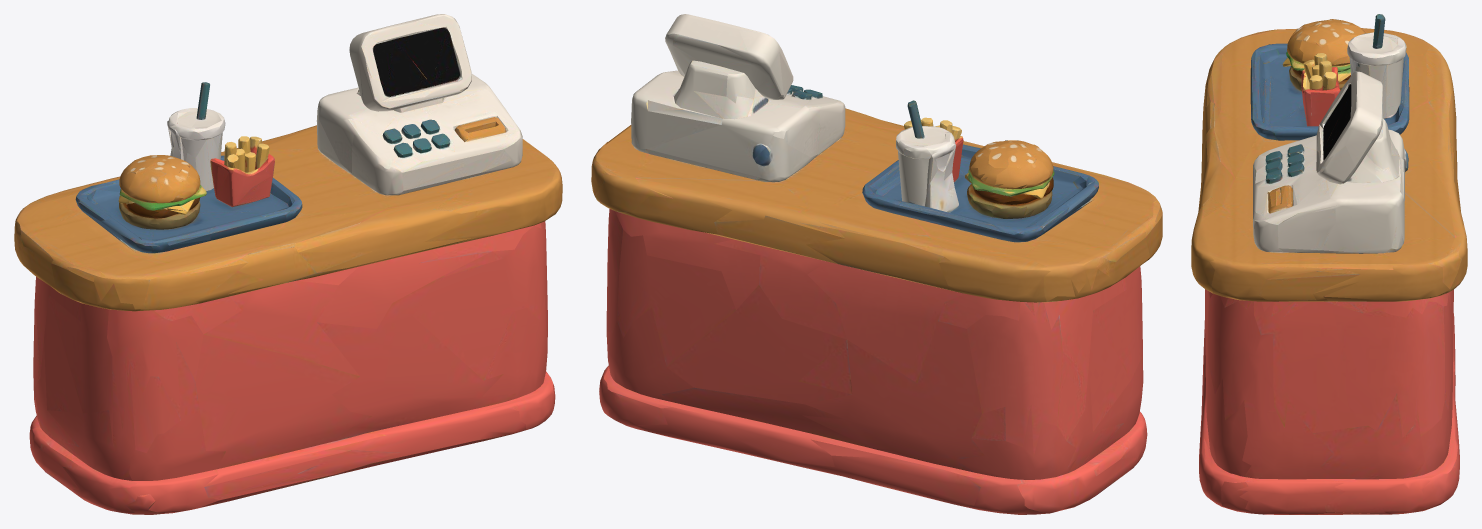
File: rounded-restaurant-service-counter-meal-loaded.glb
3 renders of one model, left to right at view 1: azimuth 30°, elevation 25°; view 2: azimuth 150°, elevation 25°; view 3: azimuth 270°, elevation 25°, orthographic. The views are drawn at different scales.
Parts seen in each view (by area): view 1: Mesh_0; view 2: Mesh_0; view 3: Mesh_0.
Boxes of the visible parts, bbox=[...] form: Mesh_0: bbox=[14, 14, 562, 514]; Mesh_0: bbox=[591, 14, 1162, 514]; Mesh_0: bbox=[1191, 14, 1467, 514].
Size of the model in its own units: 1.4 by 1.03 by 0.6761.
1 material, 1 textured.
